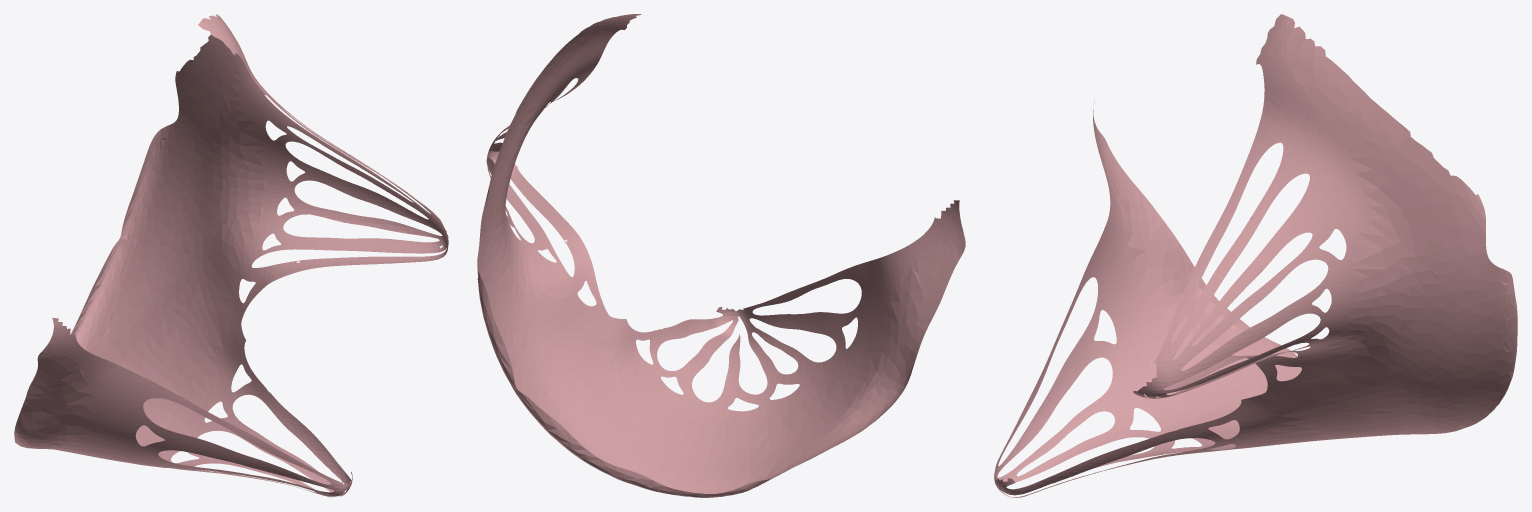
File: fma7243_cx228.glb
3 views of the same model, side by side, from view 1: azimuth 30°, elevation 25°; view 2: azimuth 150°, elevation 25°; view 3: azimuth 270°, elevation 25° (orthographic). The views are drawn at different scales.
Visible parts, largest first — view 1: FMA7243_CX228; view 2: FMA7243_CX228; view 3: FMA7243_CX228.
Part boxes in pixels (<box>): FMA7243_CX228: <box>14,14,448,497</box>; FMA7243_CX228: <box>477,14,965,497</box>; FMA7243_CX228: <box>994,14,1517,497</box>.
Bounding box in the file's own units: 0.0379 × 0.0336 × 0.0338.
